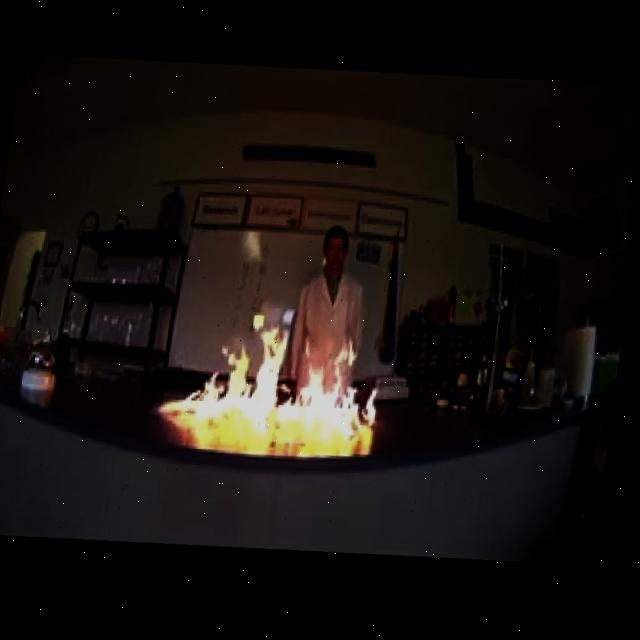Fire: (154, 296, 397, 440)
